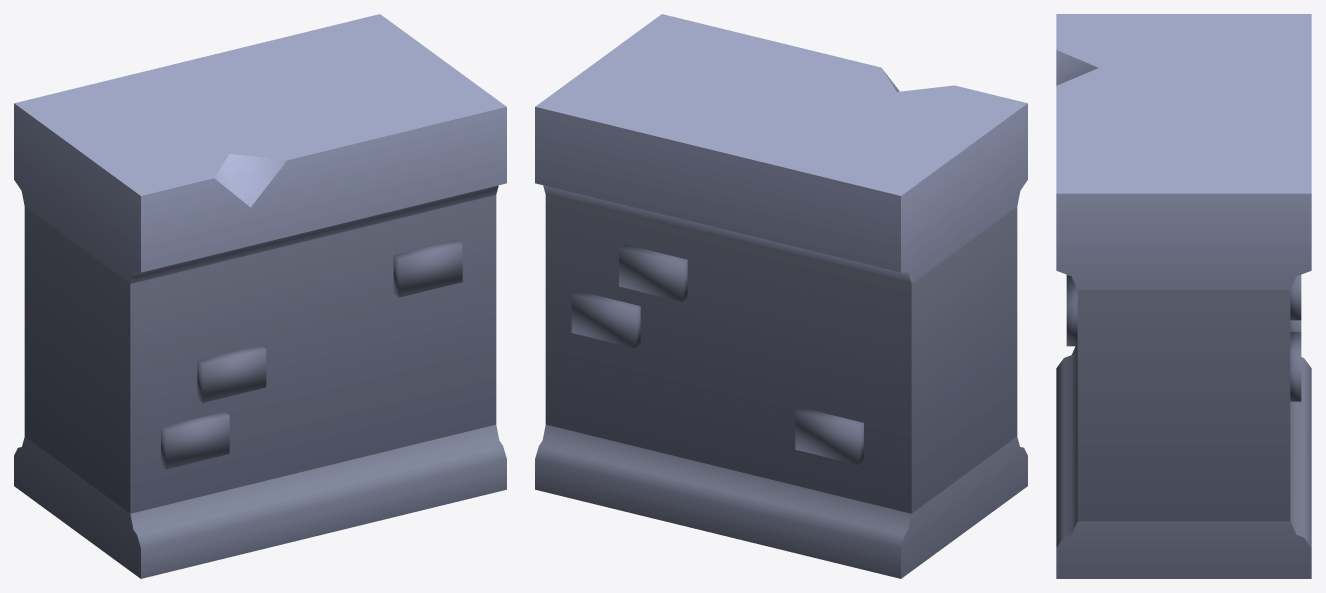
File: wall.obj
3 renders of one model, left to right at view 1: azimuth 30°, elevation 25°; view 2: azimuth 150°, elevation 25°; view 3: azimuth 270°, elevation 25°, orthographic.
Visible parts, largest first — view 1: wall; view 2: wall; view 3: wall.
Part boxes in pixels (x1,y1,x2,y2): wall: (14, 14, 506, 578); wall: (535, 14, 1027, 578); wall: (1056, 14, 1311, 578).
Size of the model in its own units: 1 by 1 by 0.6.
Materials: 1 (1 with a texture image).
